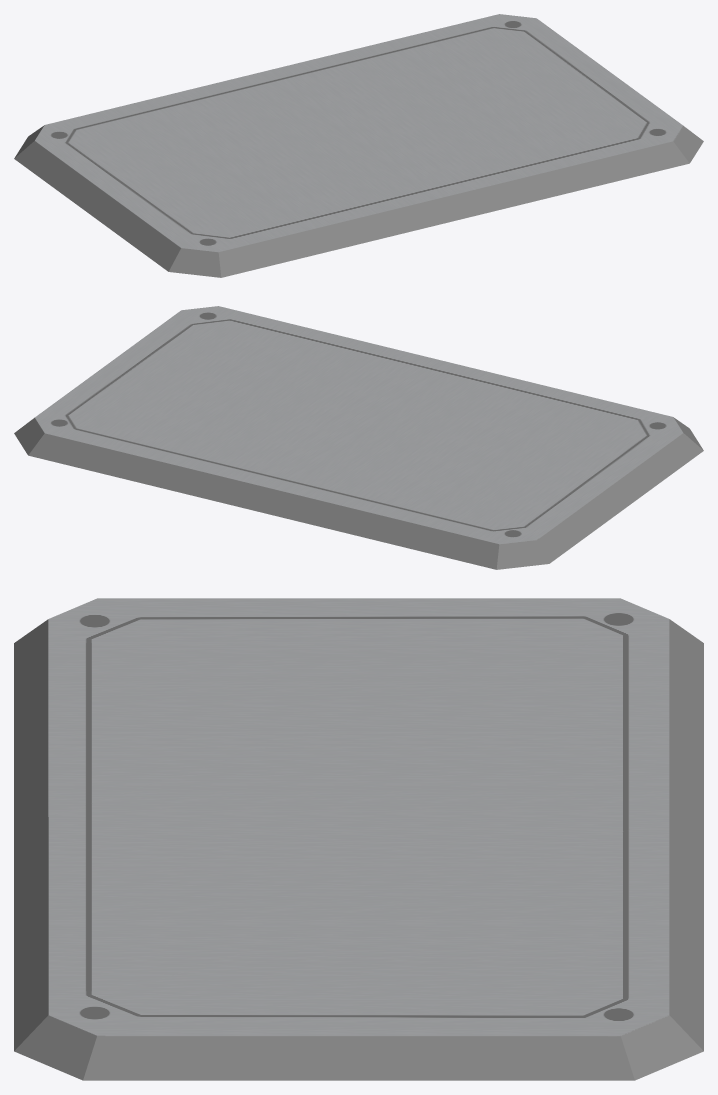
The model's file is B_block_d.fbx.
3 renders of one model, top to bottom at view 1: azimuth 30°, elevation 25°; view 2: azimuth 150°, elevation 25°; view 3: azimuth 270°, elevation 25°, orthographic. The views are drawn at different scales.
Parts seen in each view (by area): view 1: Box352; view 2: Box352; view 3: Box352.
Boxes of the visible parts, box(x1,y1,x2,y2) form: Box352: box(14, 14, 703, 277); Box352: box(14, 306, 703, 569); Box352: box(14, 598, 703, 1080).
Bounding box in the file's own units: 160 × 4.83 × 100.
